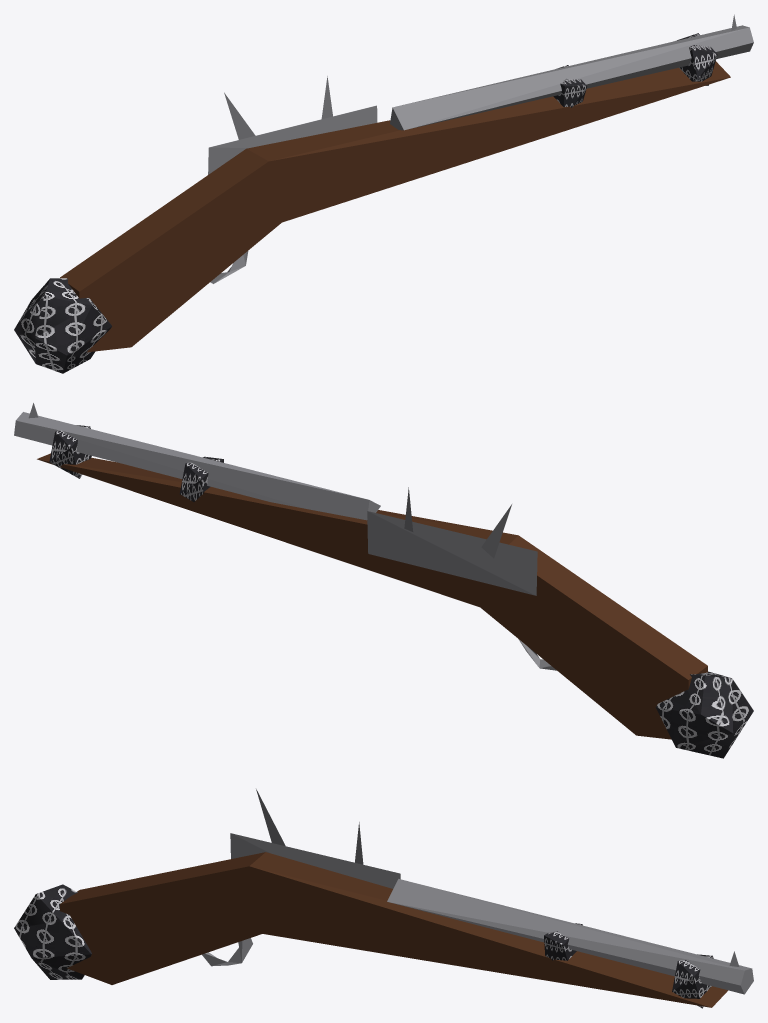
The model's file is flintlock_pistol_lod2.glb.
3 renders of one model, top to bottom at view 1: azimuth 30°, elevation 25°; view 2: azimuth 150°, elevation 25°; view 3: azimuth 330°, elevation 25°, orthographic.
Visible parts, largest first — view 1: m; view 2: m; view 3: m.
Part boxes in pixels (<box>): m: <box>14,14,753,373</box>; m: <box>14,403,753,758</box>; m: <box>14,789,753,1008</box>.
Size of the model in its own units: 0.5547 by 0.162 by 0.0475.
Materials: 3 (2 with a texture image).
